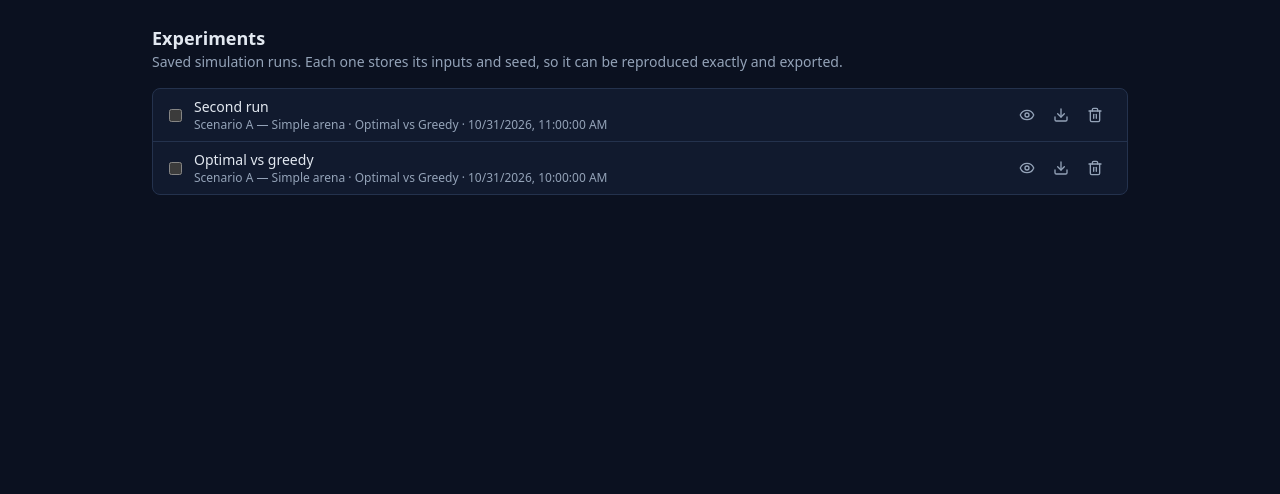
ExperimentsPage › confirms an exact reproduction
Click the button named "View Optimal vs greedy".
click(1027, 168)  # box [1011,152,1043,184]
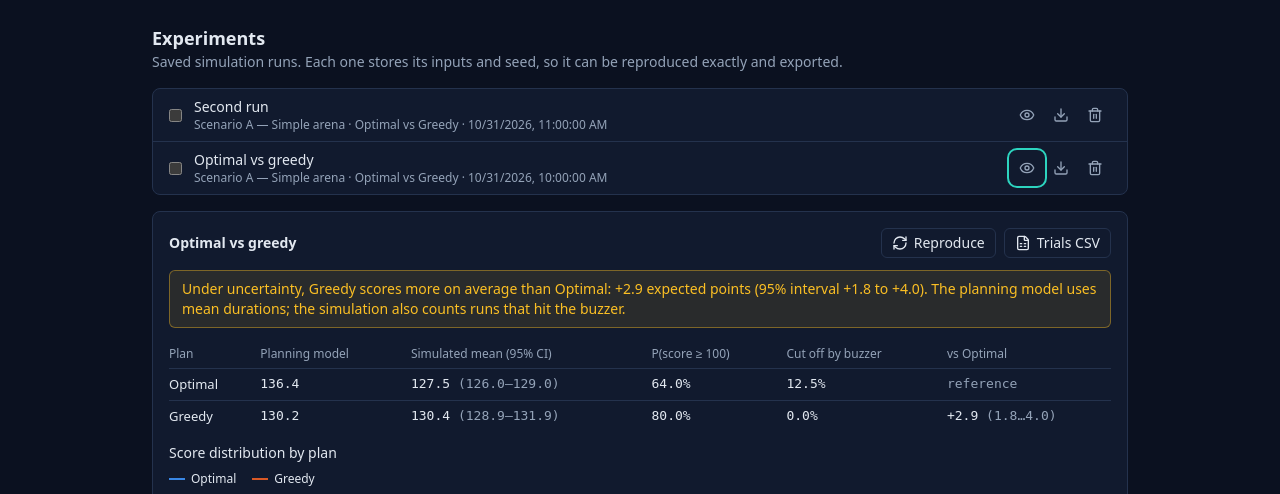
Click the button "Reproduce".
click(938, 243)  # box [881,228,996,258]
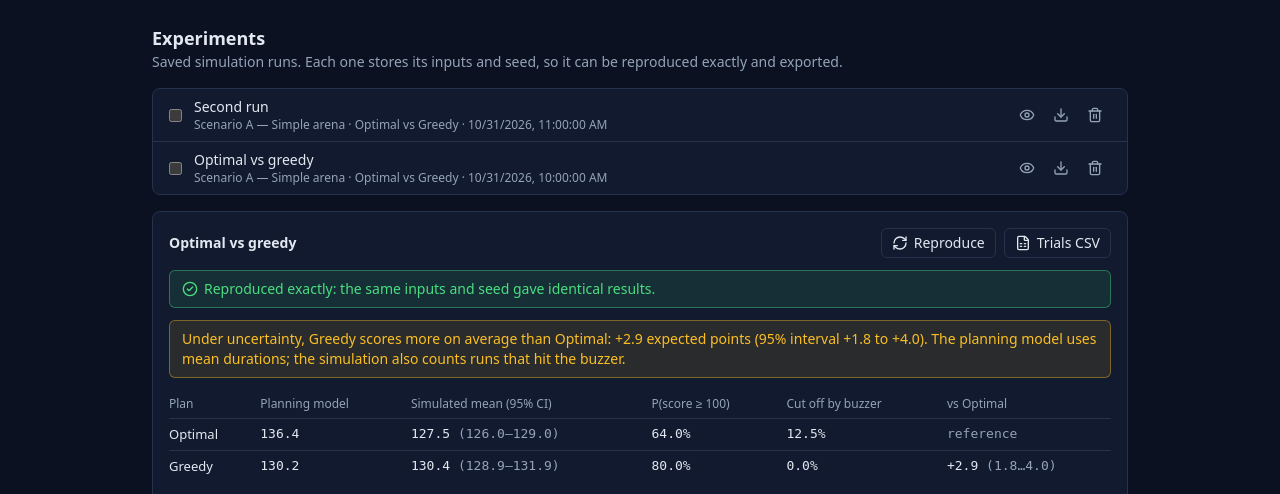
Expected: the text "Reproduced exactly" is shown, [204,279,655,298]
